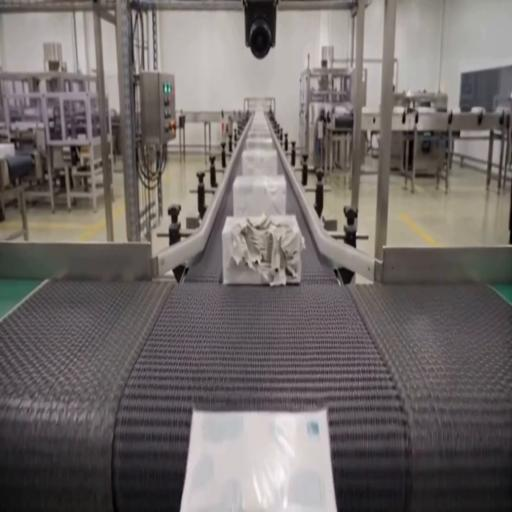defective: (221, 212, 304, 286)
good: (180, 404, 337, 510), (232, 174, 287, 220), (242, 148, 280, 181)
